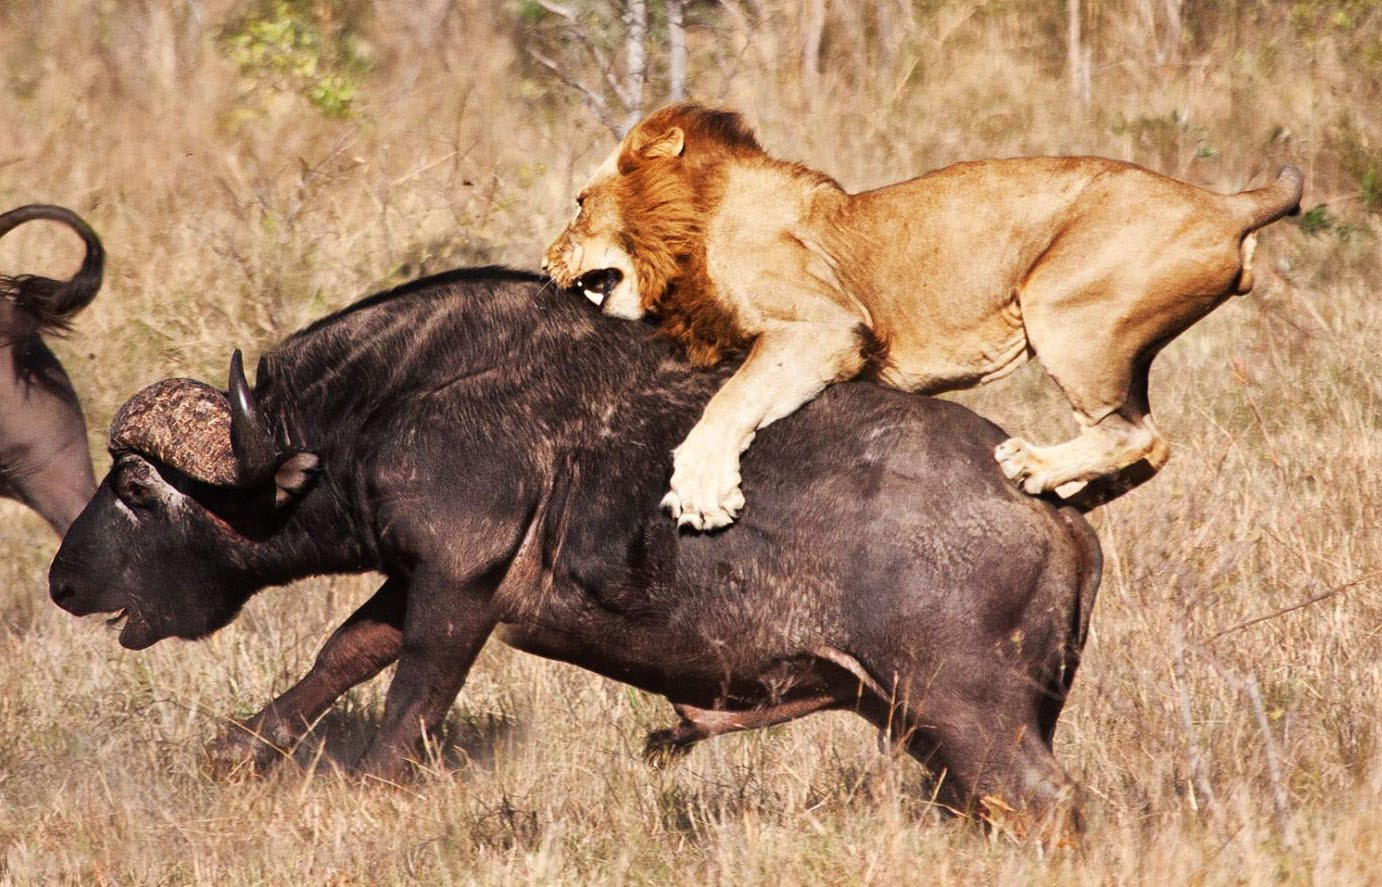buffalo: (47, 267, 1104, 860), (1, 199, 112, 522)
lion: (536, 91, 1306, 536)
